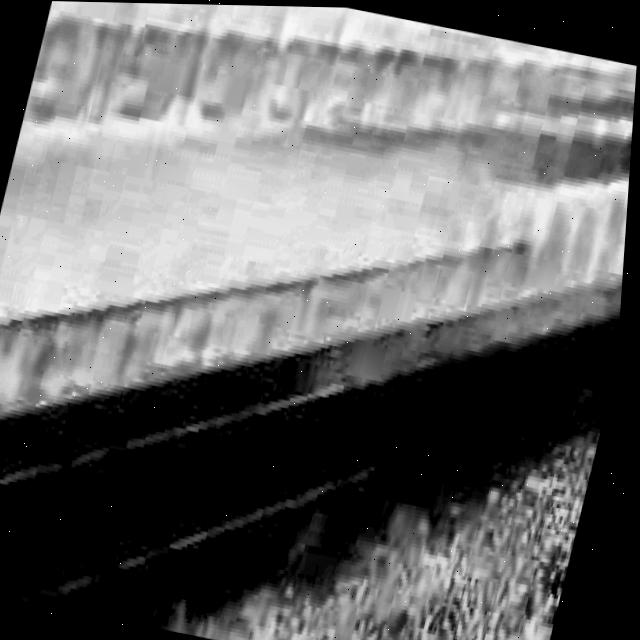Kereta: (0, 0, 591, 640), (478, 45, 638, 376)
